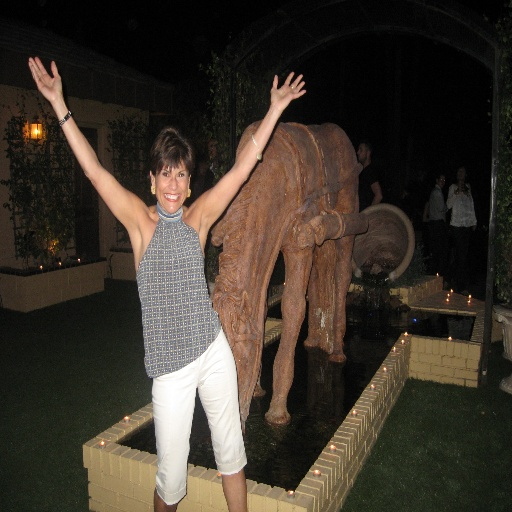hand: (27, 54, 62, 102), (270, 69, 306, 114), (456, 183, 463, 193), (464, 183, 469, 196)
